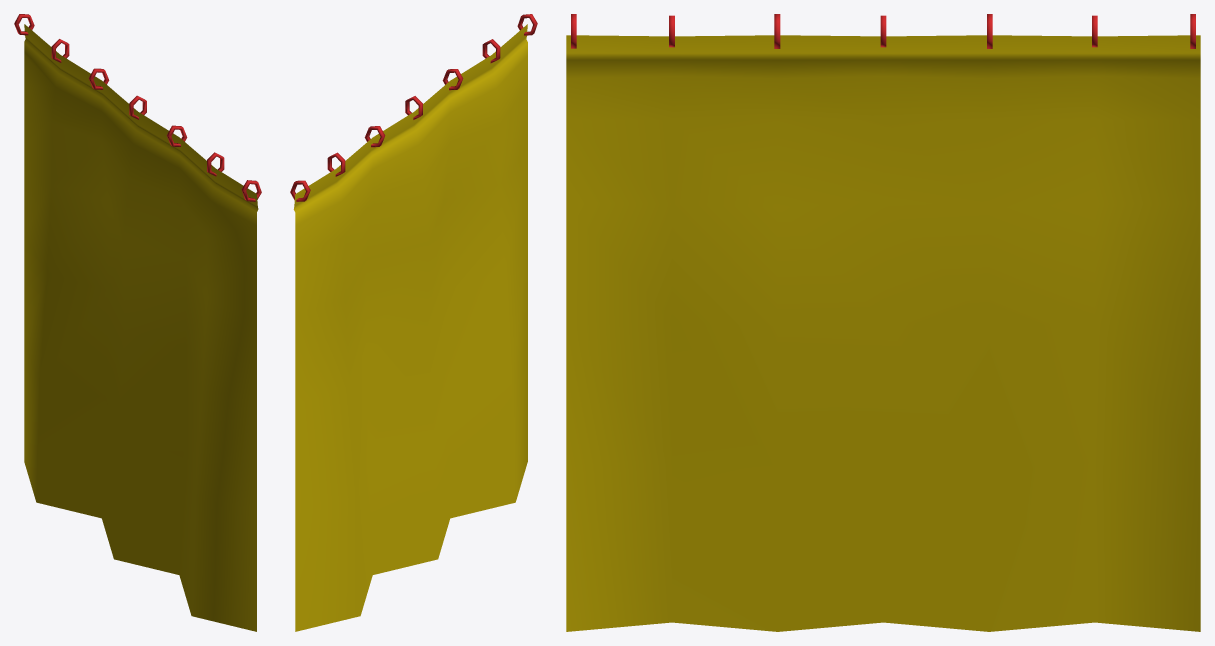
Rendered from MOD_DEC_Curtains_01.fbx.
The picture shows the model from 3 angles, left to right: view 1: azimuth 30°, elevation 25°; view 2: azimuth 150°, elevation 25°; view 3: azimuth 270°, elevation 25°; orthographic projection. The views are drawn at different scales.
Parts seen in each view (by area): view 1: HSHP_MOD_Curtains_01; view 2: HSHP_MOD_Curtains_01; view 3: HSHP_MOD_Curtains_01.
Boxes of the visible parts, left/top/right/bottom form: HSHP_MOD_Curtains_01: left=14, top=14, right=261, bottom=631; HSHP_MOD_Curtains_01: left=290, top=14, right=537, bottom=631; HSHP_MOD_Curtains_01: left=566, top=14, right=1200, bottom=631.
Bounding box in the file's own units: 0.088 × 1.15 × 1.06.
